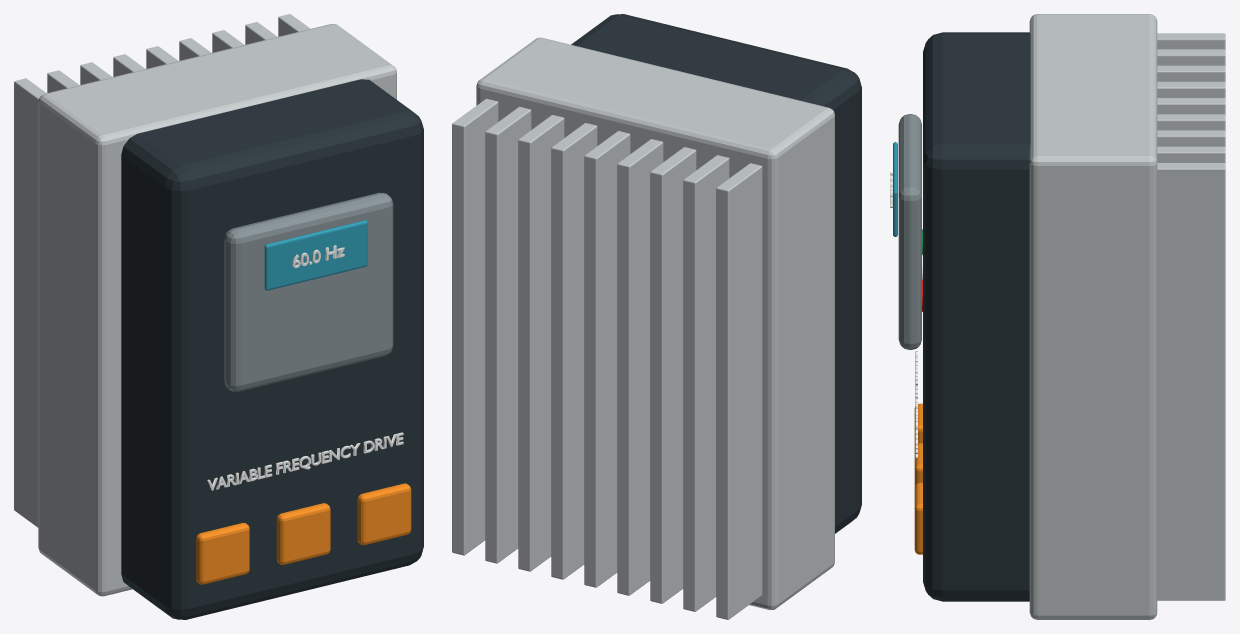
File: wall_vfd.glb
The picture shows the model from 3 angles, left to right: view 1: azimuth 30°, elevation 25°; view 2: azimuth 150°, elevation 25°; view 3: azimuth 270°, elevation 25°; orthographic projection.
Visible parts, largest first — view 1: VFD_BODY, HEATSINK_BLOCK, KEYPAD, HEATSINK_FIN_-0.36, DISPLAY, POWER_TERMINAL_0.22, POWER_TERMINAL_0, POWER_TERMINAL_-0.22, VFD_LABEL; view 2: HEATSINK_BLOCK, VFD_BODY, HEATSINK_FIN_-0.36, HEATSINK_FIN_0.08999999999999997, HEATSINK_FIN_-0.27, HEATSINK_FIN_-0.18, HEATSINK_FIN_0.0, HEATSINK_FIN_0.18000000000000005, HEATSINK_FIN_-0.08999999999999997, HEATSINK_FIN_0.36, HEATSINK_FIN_0.27; view 3: HEATSINK_BLOCK, VFD_BODY, HEATSINK_FIN_0.36, KEYPAD, HEATSINK_FIN_0.0, HEATSINK_FIN_0.27, HEATSINK_FIN_-0.36, HEATSINK_FIN_-0.08999999999999997, HEATSINK_FIN_0.08999999999999997, HEATSINK_FIN_0.18000000000000005, HEATSINK_FIN_-0.18, HEATSINK_FIN_-0.27 (+2 smaller).
Part boxes in pixels (left/top/right/bottom): VFD_BODY: left=121, top=79, right=423, bottom=619; HEATSINK_BLOCK: left=38, top=24, right=396, bottom=596; KEYPAD: left=224, top=192, right=393, bottom=391; HEATSINK_FIN_-0.36: left=14, top=78, right=46, bottom=527; DISPLAY: left=264, top=220, right=367, bottom=290; POWER_TERMINAL_0.22: left=357, top=483, right=411, bottom=545; POWER_TERMINAL_0: left=276, top=503, right=330, bottom=564; POWER_TERMINAL_-0.22: left=196, top=522, right=249, bottom=584; VFD_LABEL: left=207, top=432, right=403, bottom=490; HEATSINK_BLOCK: left=476, top=37, right=834, bottom=609; VFD_BODY: left=571, top=14, right=861, bottom=533; HEATSINK_FIN_-0.36: left=716, top=163, right=762, bottom=619; HEATSINK_FIN_0.08999999999999997: left=551, top=123, right=597, bottom=579; HEATSINK_FIN_-0.27: left=683, top=155, right=729, bottom=611; HEATSINK_FIN_-0.18: left=650, top=147, right=696, bottom=603; HEATSINK_FIN_0.0: left=584, top=131, right=630, bottom=587; HEATSINK_FIN_0.18000000000000005: left=518, top=115, right=564, bottom=571; HEATSINK_FIN_-0.08999999999999997: left=617, top=139, right=663, bottom=595; HEATSINK_FIN_0.36: left=452, top=98, right=498, bottom=555; HEATSINK_FIN_0.27: left=485, top=106, right=531, bottom=563; HEATSINK_BLOCK: left=1029, top=14, right=1157, bottom=619; VFD_BODY: left=923, top=32, right=1030, bottom=601; HEATSINK_FIN_0.36: left=1157, top=163, right=1225, bottom=600; KEYPAD: left=898, top=114, right=921, bottom=349; HEATSINK_FIN_0.0: left=1157, top=98, right=1225, bottom=114; HEATSINK_FIN_0.27: left=1157, top=146, right=1225, bottom=163; HEATSINK_FIN_-0.36: left=1157, top=33, right=1225, bottom=49; HEATSINK_FIN_-0.08999999999999997: left=1157, top=81, right=1225, bottom=98; HEATSINK_FIN_0.08999999999999997: left=1157, top=114, right=1225, bottom=130; HEATSINK_FIN_0.18000000000000005: left=1157, top=130, right=1225, bottom=146; HEATSINK_FIN_-0.18: left=1157, top=65, right=1225, bottom=81; HEATSINK_FIN_-0.27: left=1157, top=49, right=1225, bottom=65.
Bounding box in the file's own units: 0.82 × 1.2 × 0.787.
